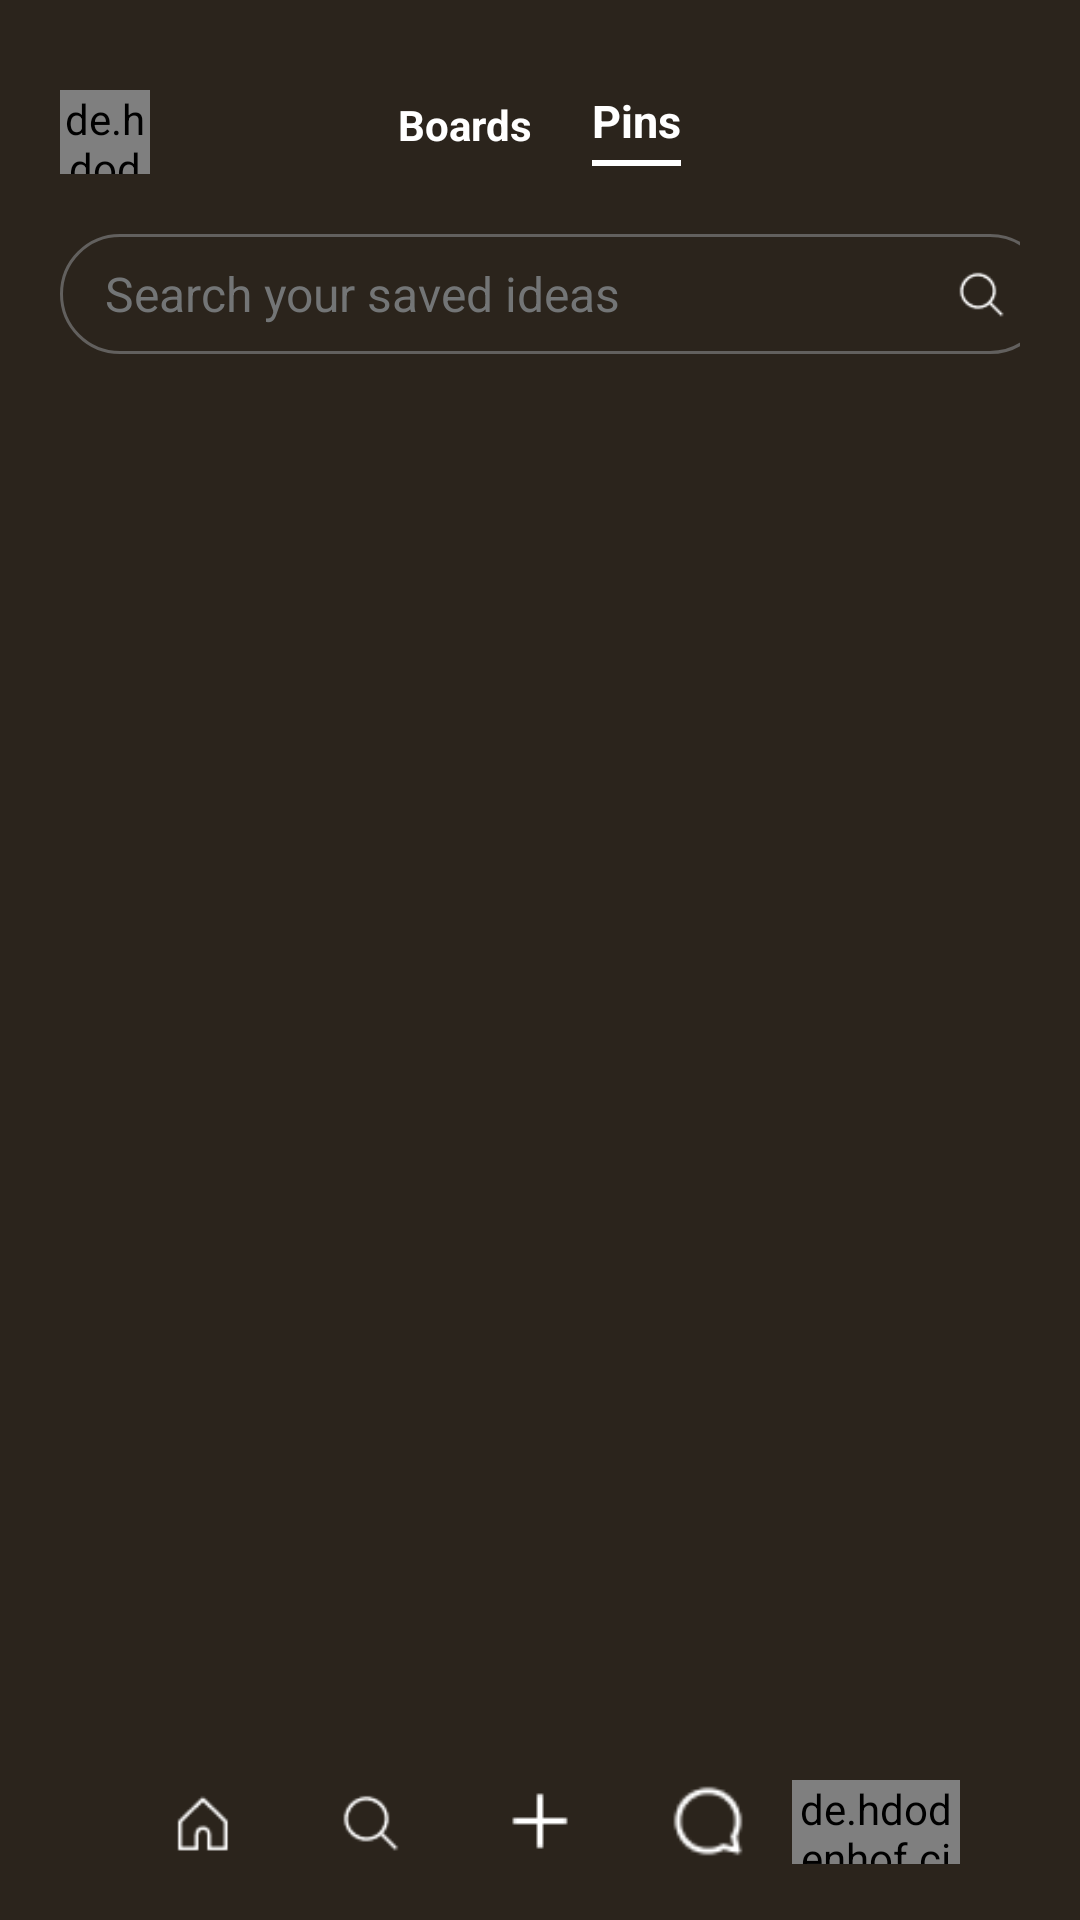

Where to tap for icons on this 1080 × 1920 app screen, as [x,y]:
comment: [708,1821]
plus: [540,1821]
